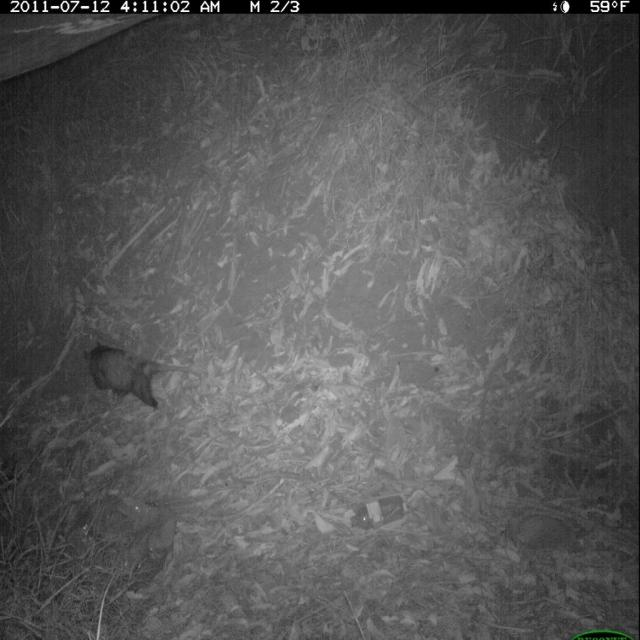opossum: (81, 339, 200, 415)
